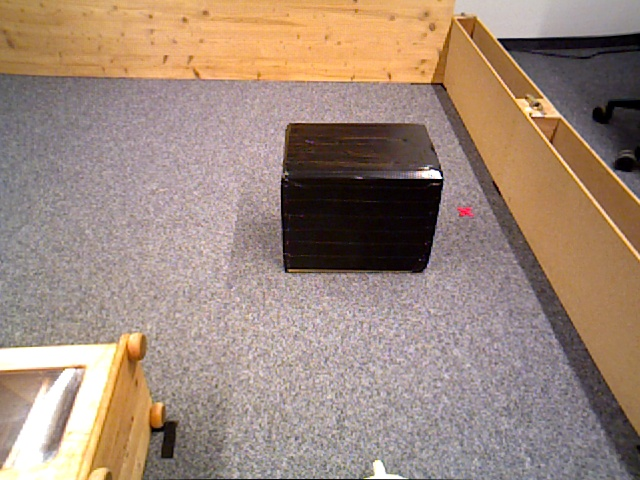push: (286, 121, 443, 273)
